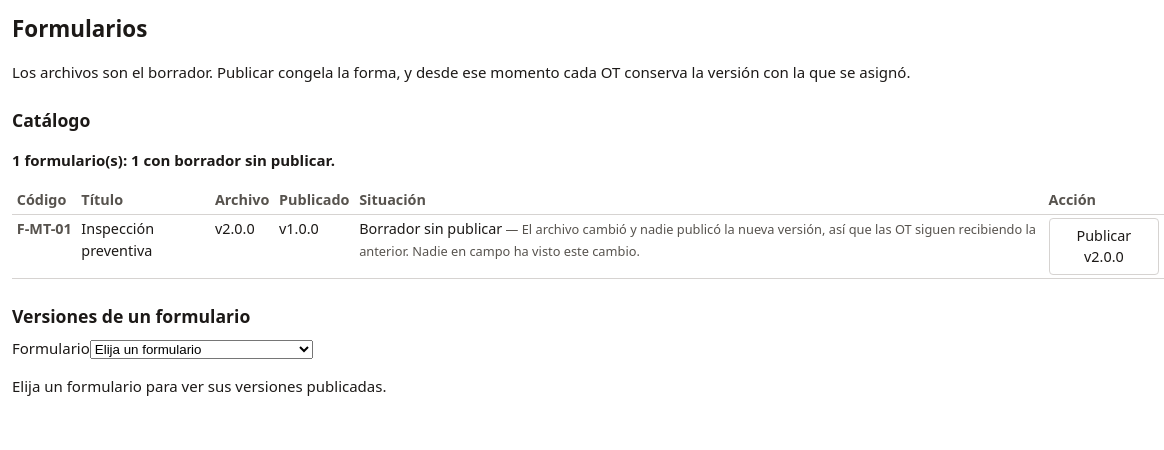
el catálogo › publicar explica qué le pasa a las OT que ya existen
The image size is (1164, 450).
Click the button "Publicar v2.0.0". click: (1104, 246)
box: top-left (1049, 218), bottom-right (1159, 275)
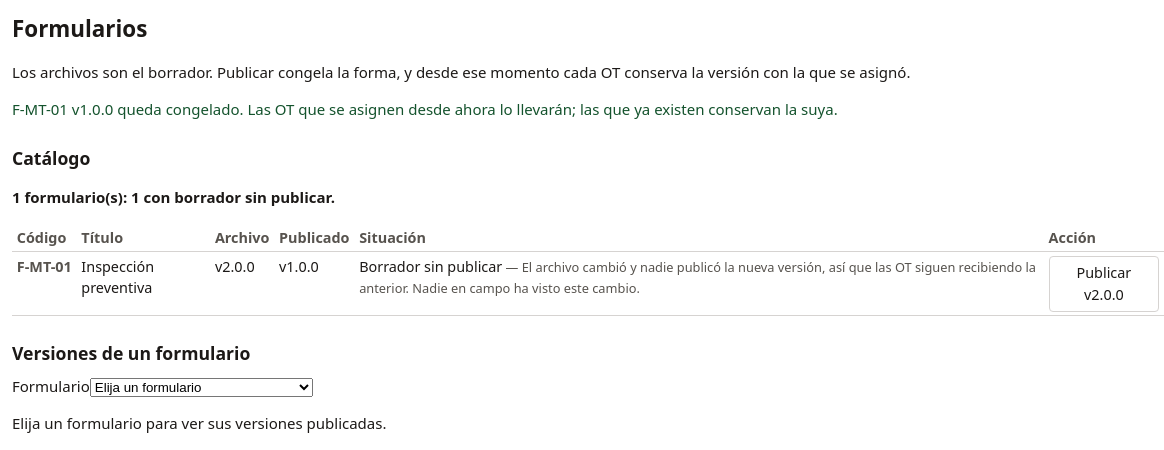
Result: the text "conservan la suya" is shown at top-left (12, 99), bottom-right (838, 119)
